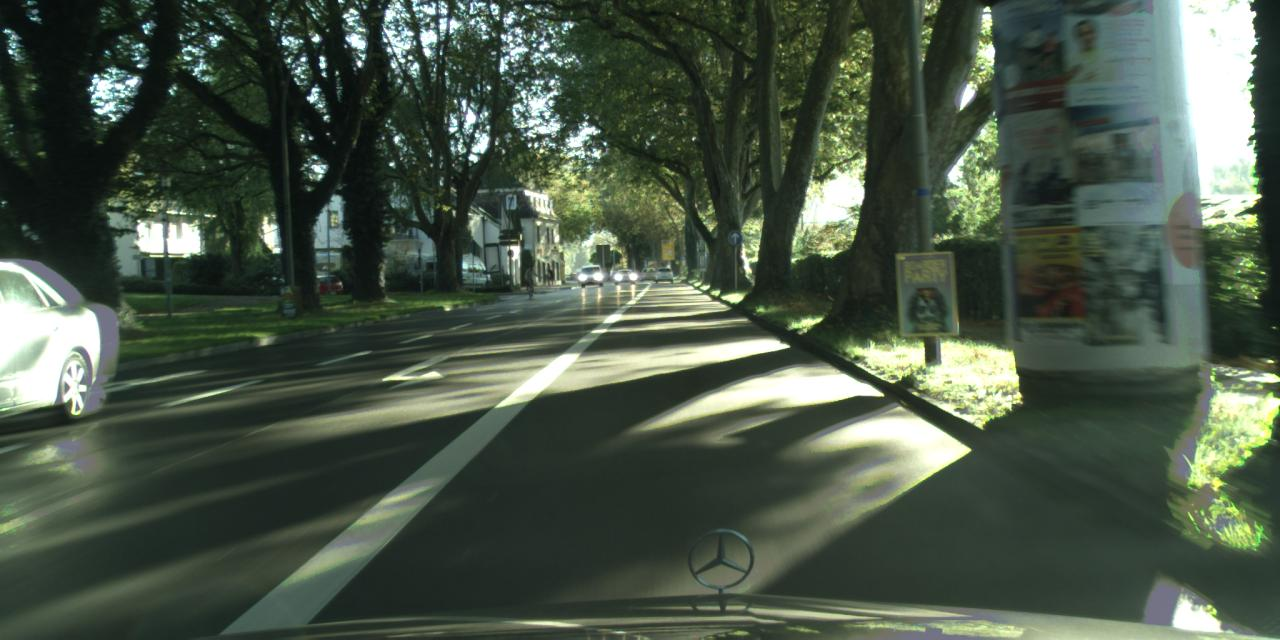ped: (525, 264, 536, 292)
